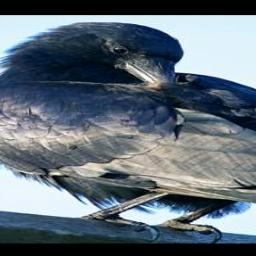Crow: (0, 21, 256, 242)
